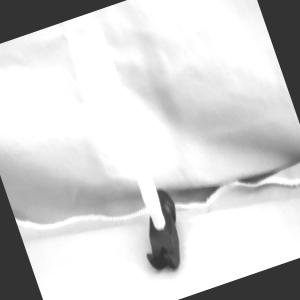martelo: (68, 19, 195, 278)
